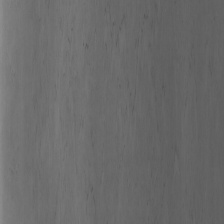silk_spot: (59, 9, 170, 202)
